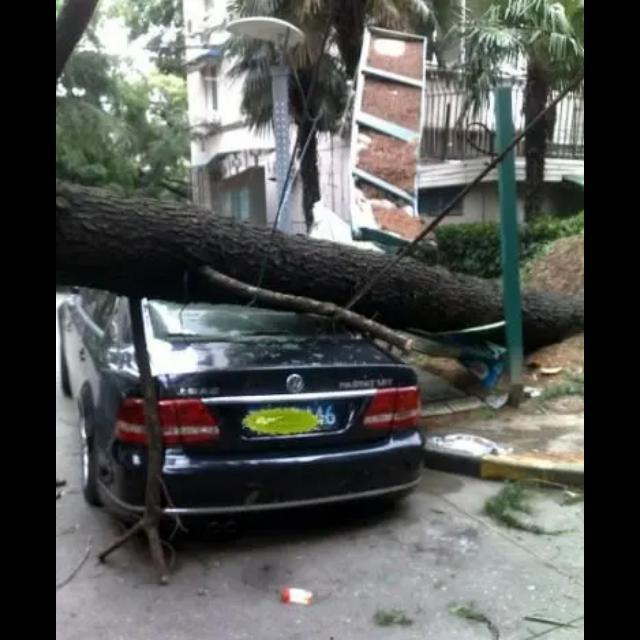fallen_tree: (56, 176, 580, 360)
